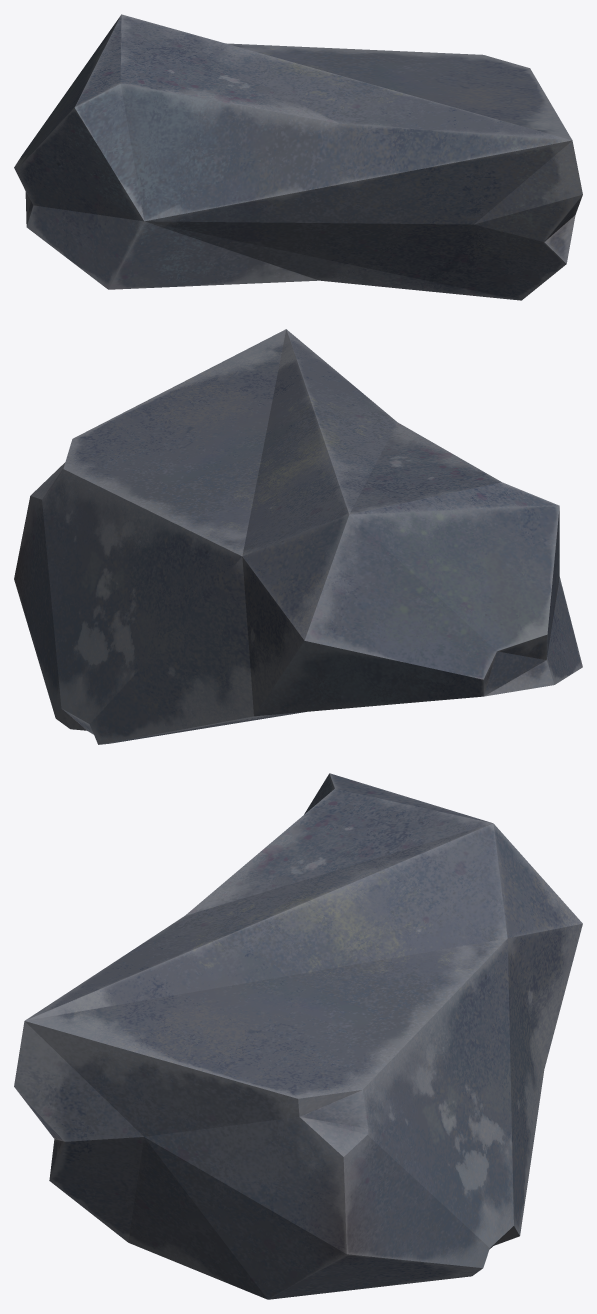
File: Rock6.fbx
3 renders of one model, top to bottom at view 1: azimuth 30°, elevation 25°; view 2: azimuth 150°, elevation 25°; view 3: azimuth 270°, elevation 25°, orthographic. The views are drawn at different scales.
Parts seen in each view (by area): view 1: stylized_rock_57; view 2: stylized_rock_57; view 3: stylized_rock_57.
Part boxes in pixels (<box>): stylized_rock_57: <box>14,14,582,300</box>; stylized_rock_57: <box>14,329,582,744</box>; stylized_rock_57: <box>14,773,582,1299</box>.
Size of the model in its own units: 6508 by 3225 by 5442.
1 material, 1 textured.
